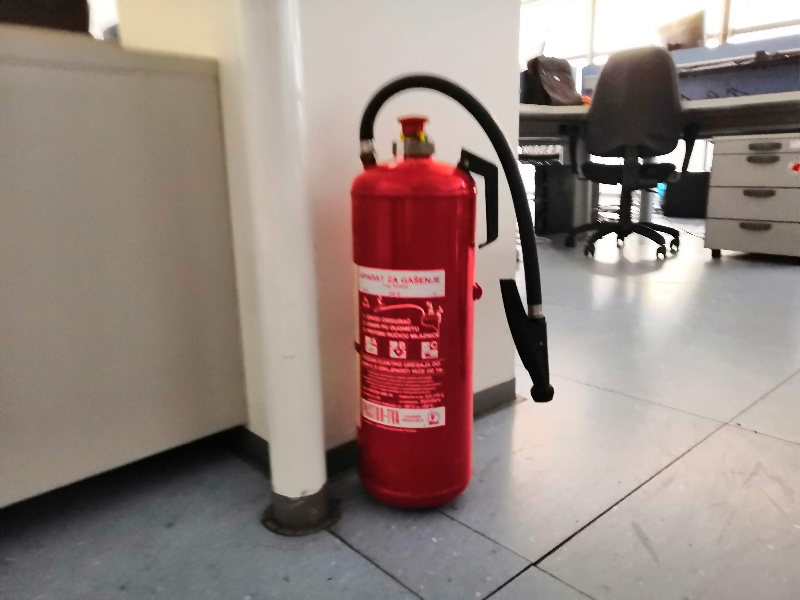vataparat: (351, 76, 555, 508)
